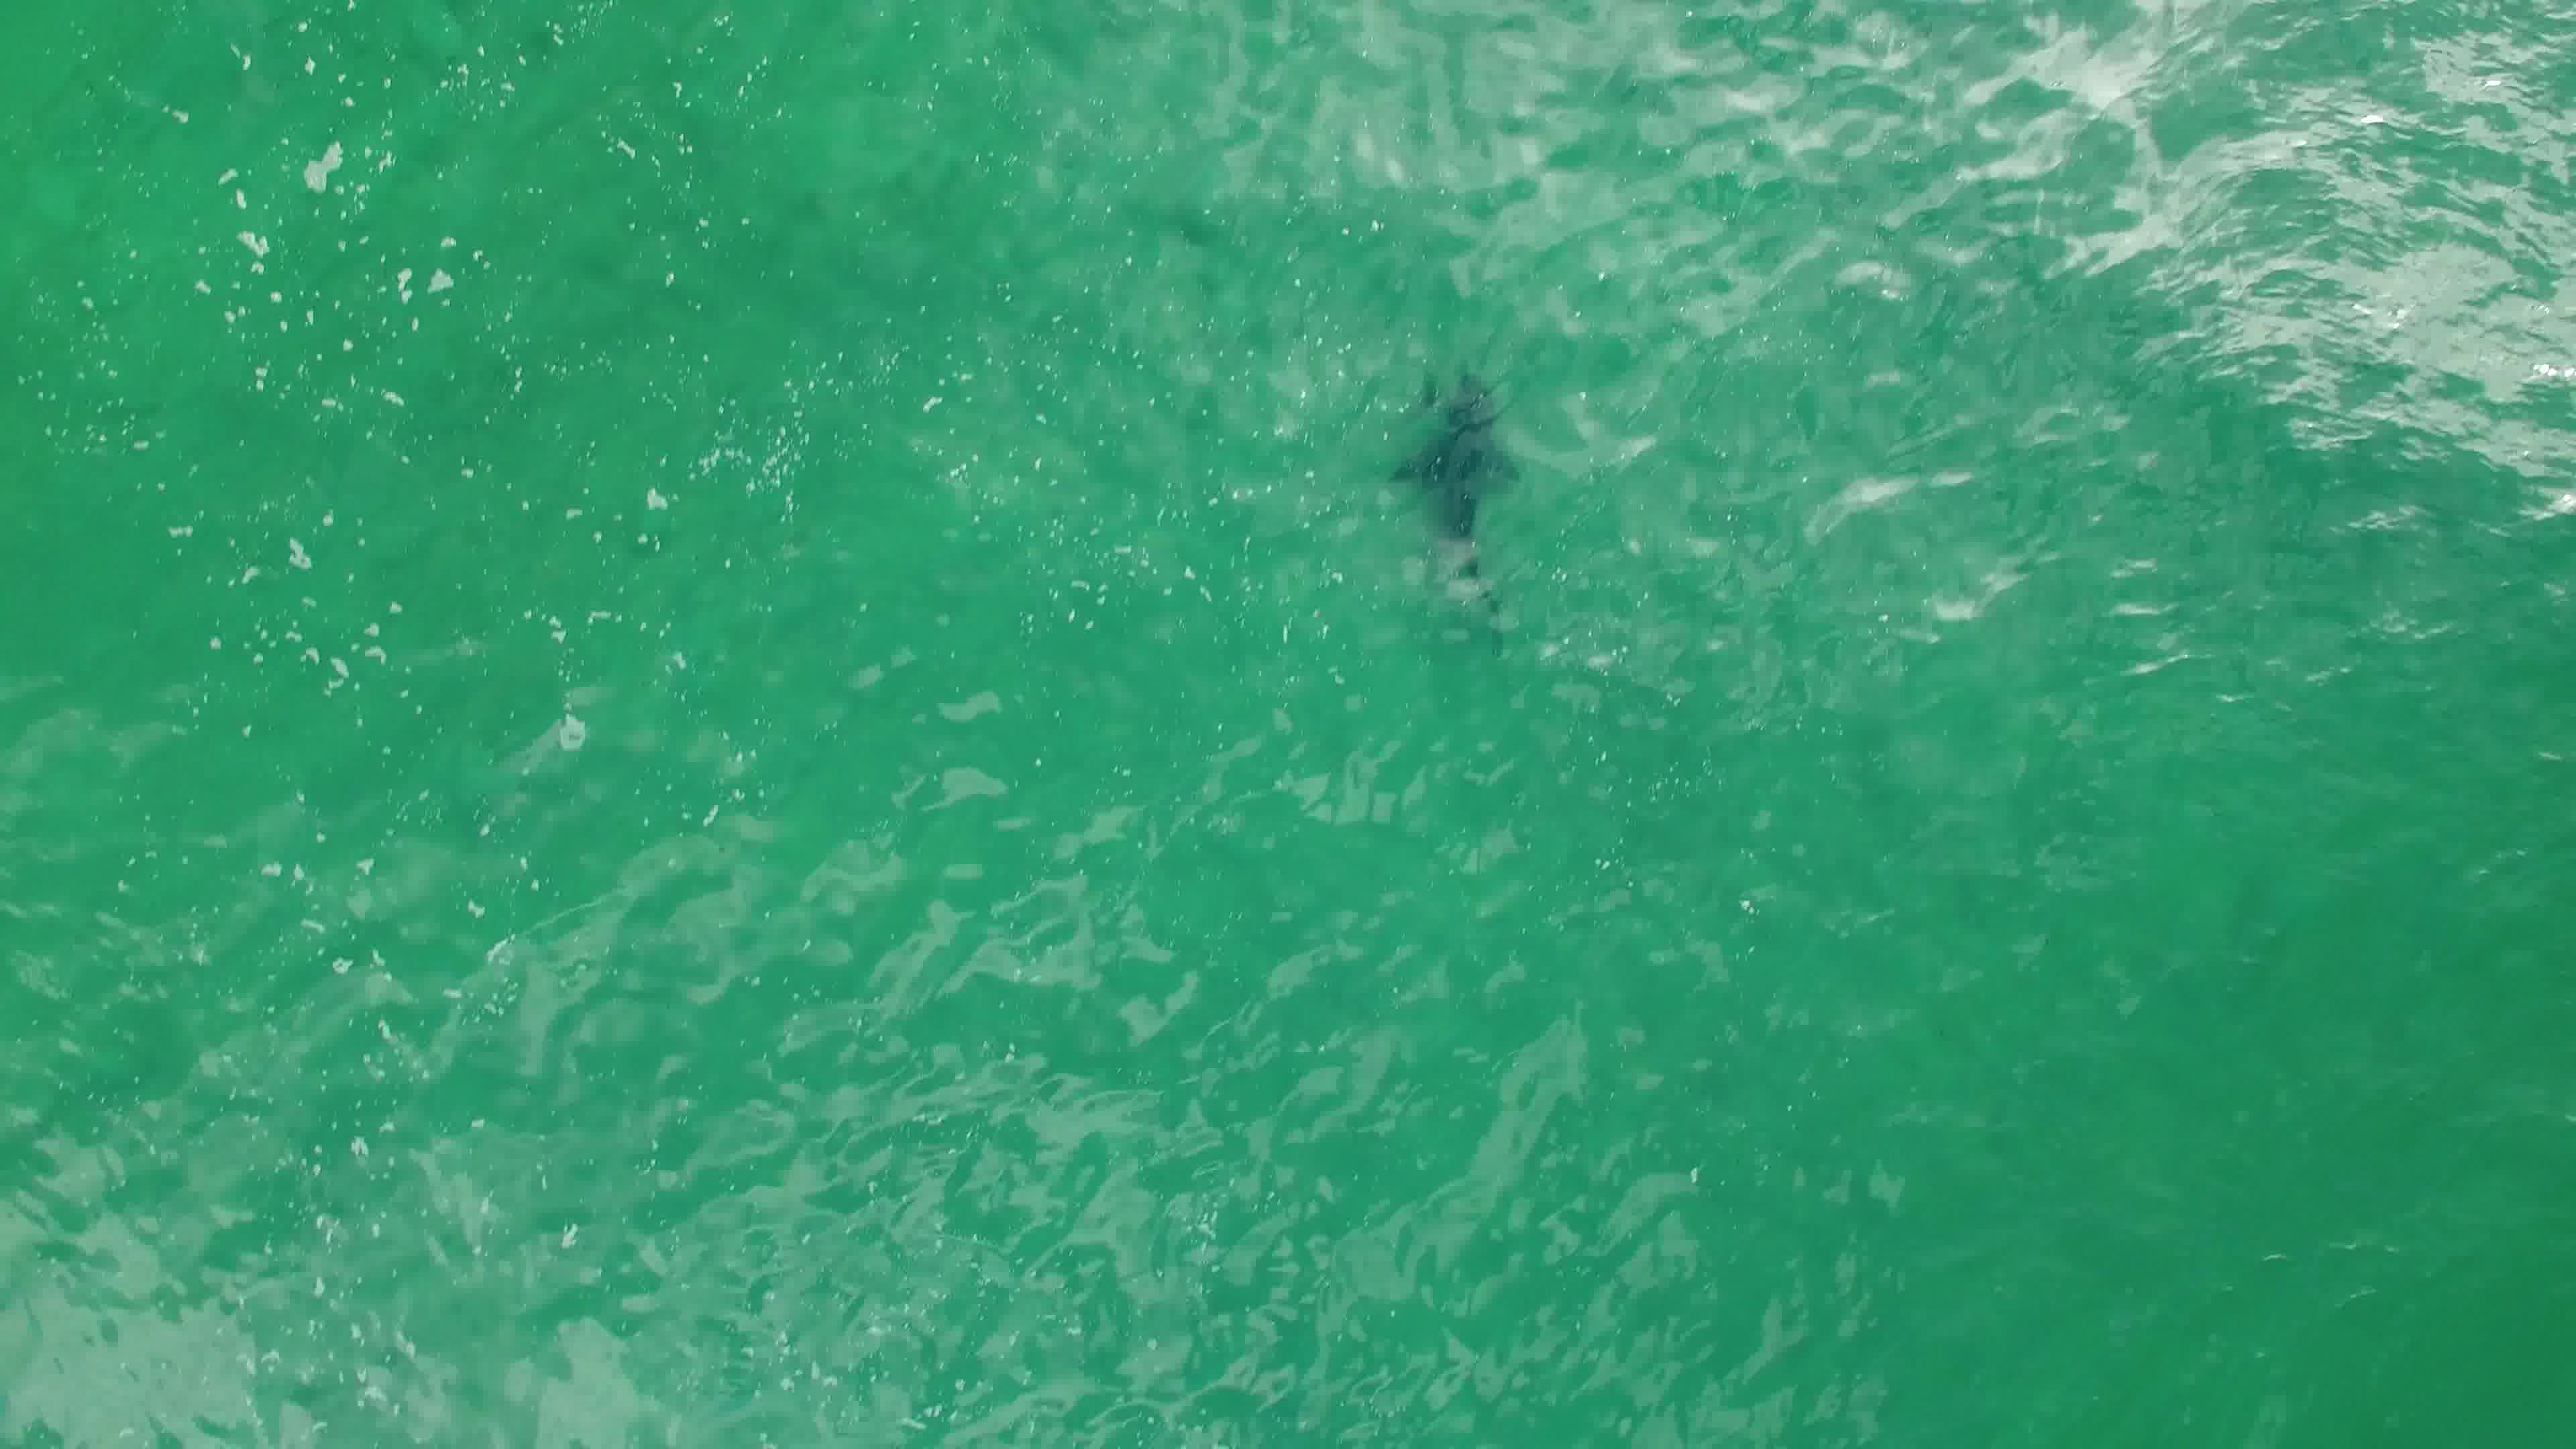shark: (1385, 372, 1530, 658)
